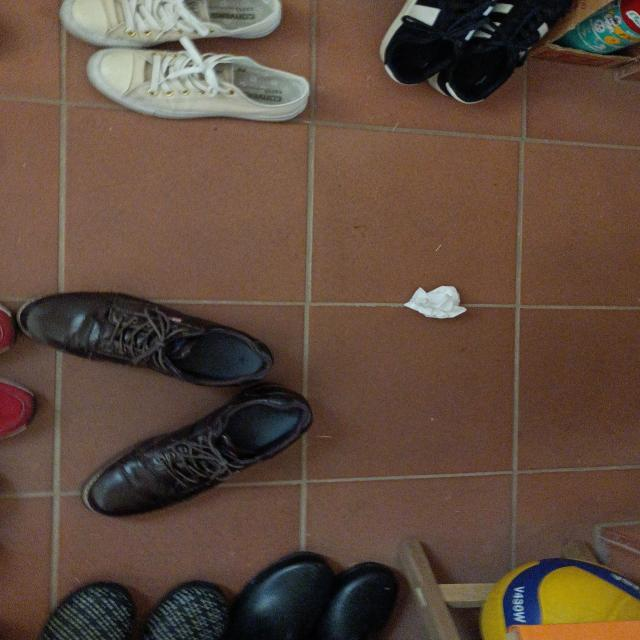Paper: (398, 274, 473, 324)
